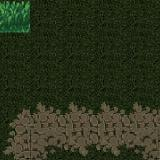Slow: (0, 0, 30, 32)
